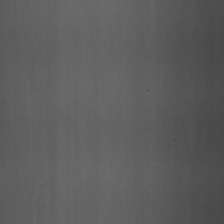inclusion: (144, 80, 153, 99), (170, 134, 178, 146)
